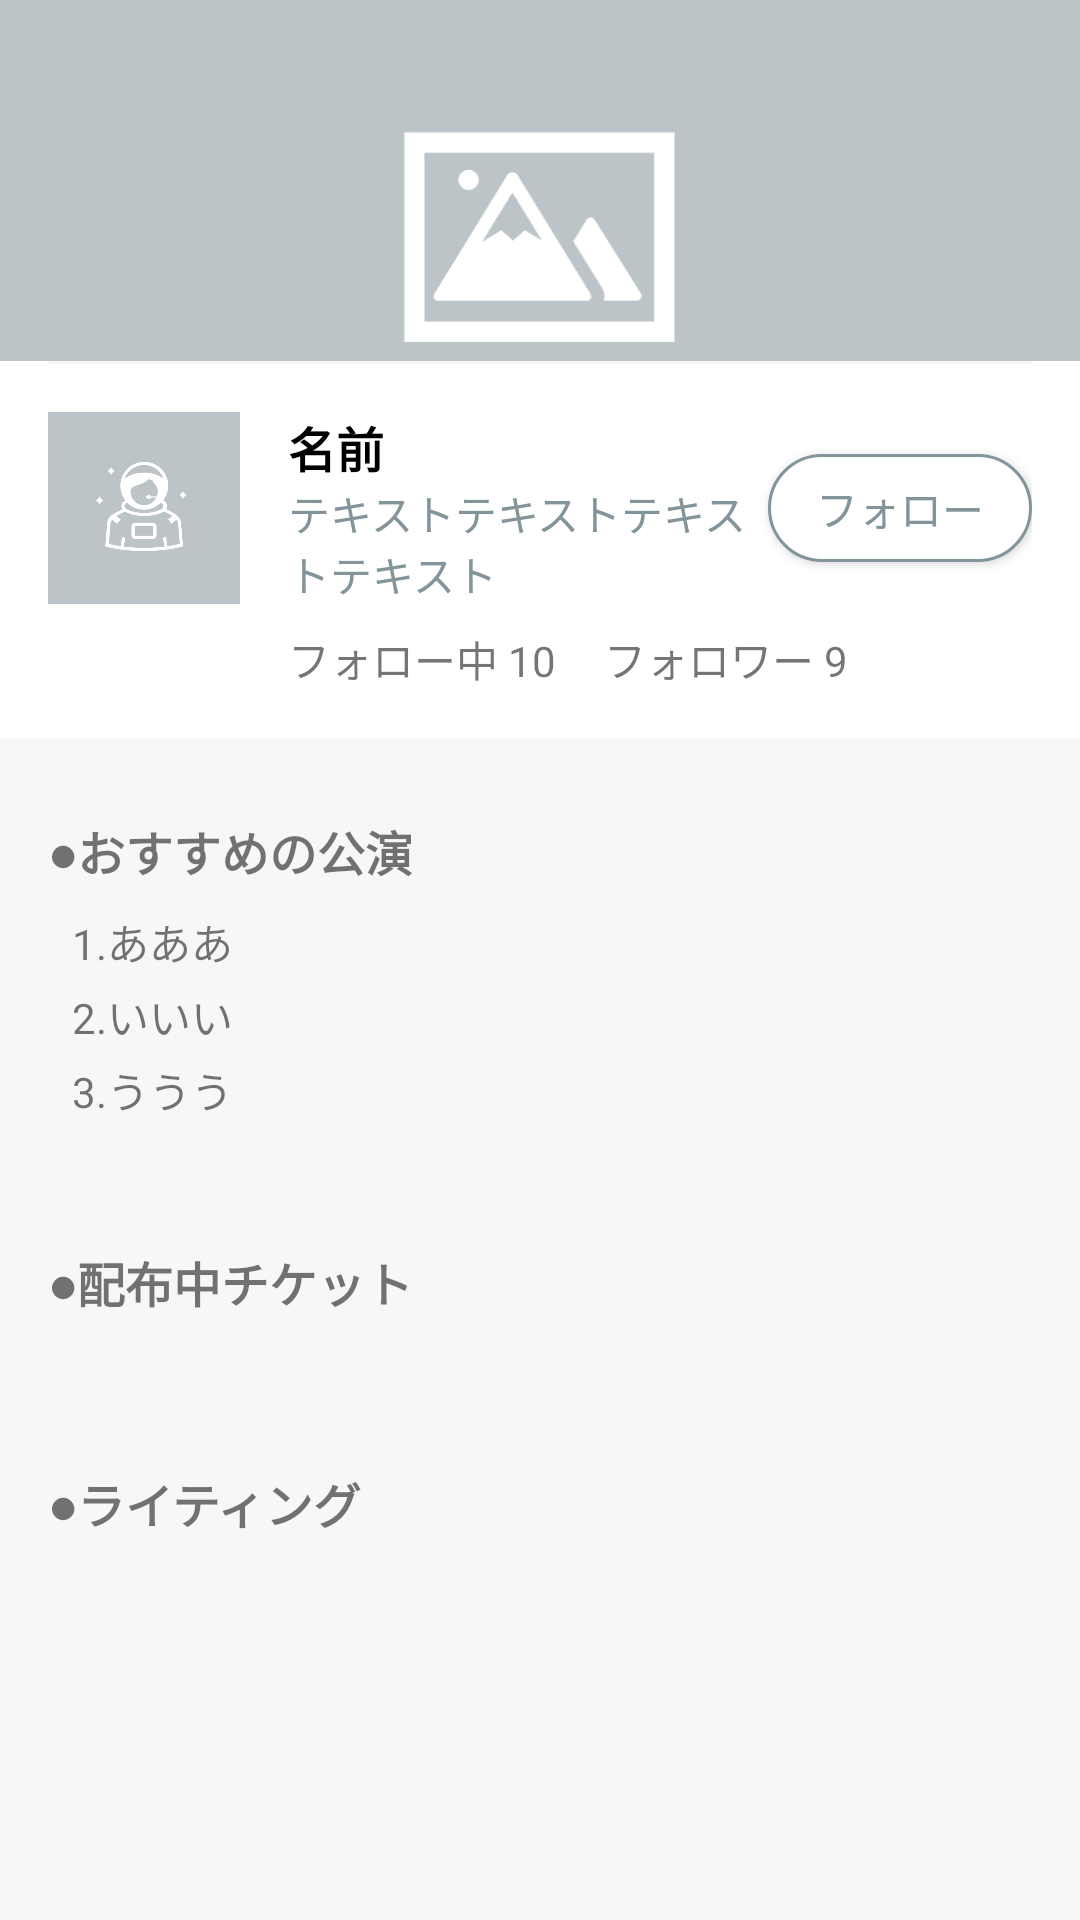

Point at icon controls on the screen. Image size 1080w x 1920h, points as (x=x, y=y).
ユーザーアイコン: (x=144, y=508)
